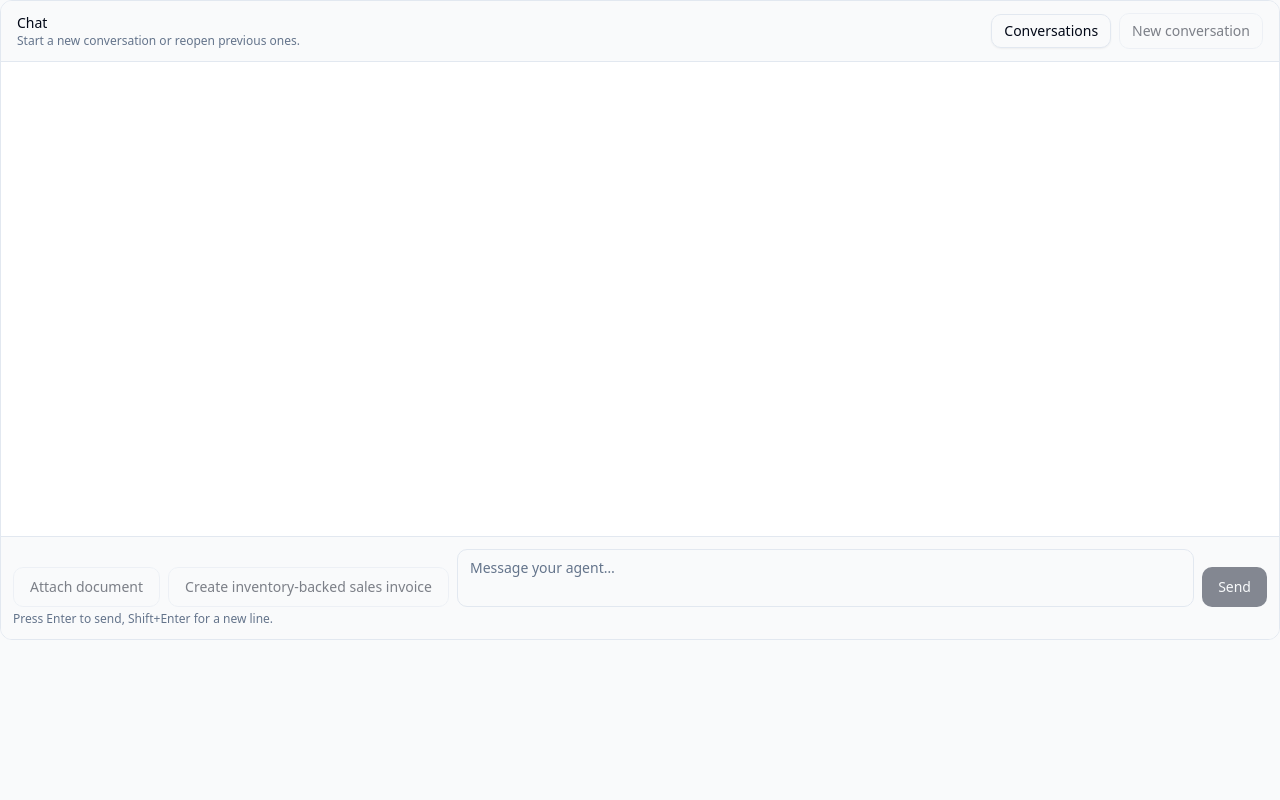
ChatWindow › ignores route events and still completes streamed response
This screenshot has width=1280, height=800.
Type "hi" into the text box with placeholder "Message your agent…" at (826, 578), box x1=457 y1=549 x2=1194 y2=607
Then press Enter
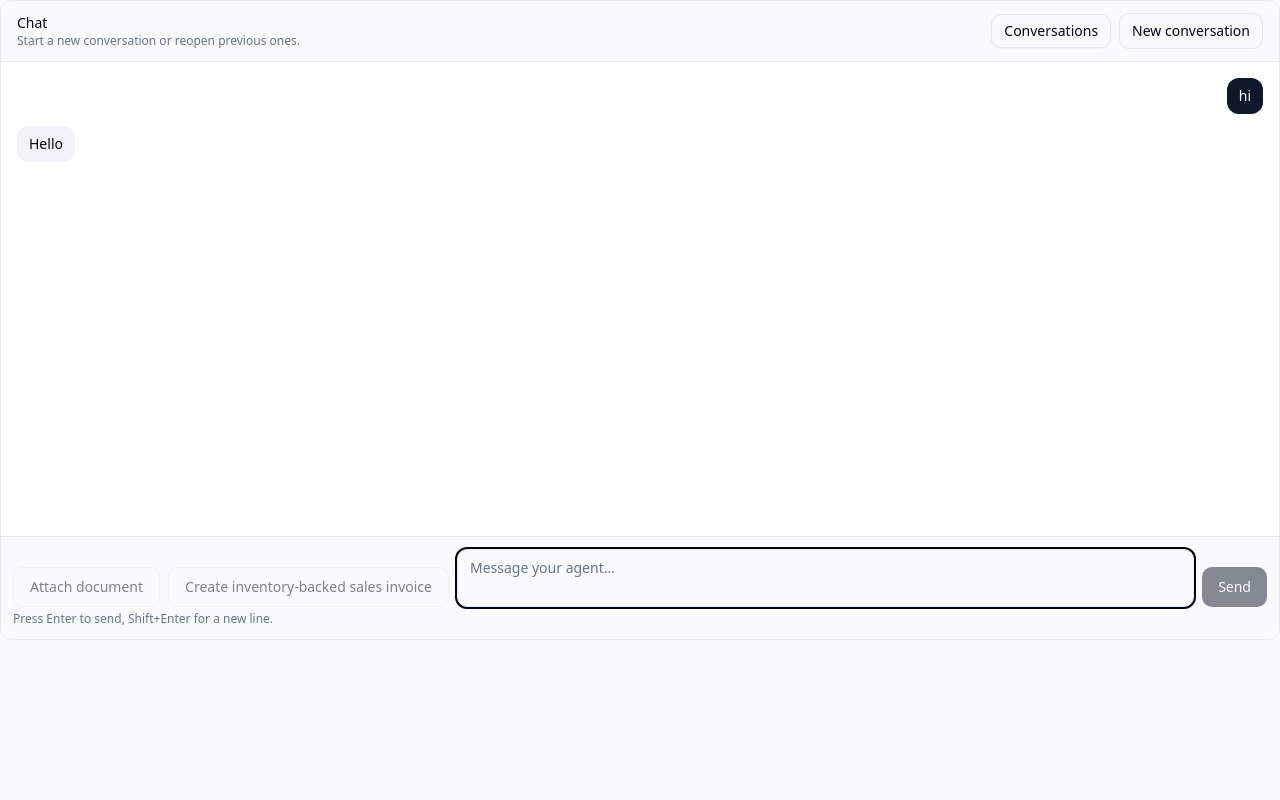
Check: the text "Hello" is shown, box x1=17 y1=126 x2=75 y2=162
